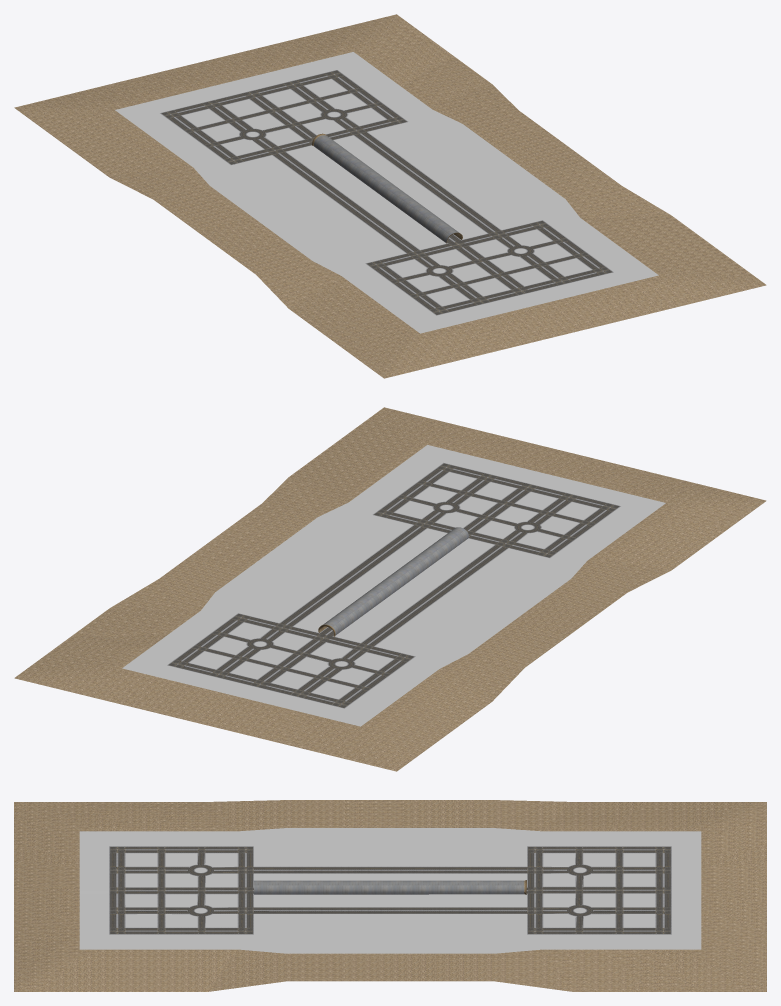
The model's file is real car.fbx.
The picture shows the model from 3 angles, top to bottom: view 1: azimuth 30°, elevation 25°; view 2: azimuth 150°, elevation 25°; view 3: azimuth 270°, elevation 25°; orthographic projection.
Parts seen in each view (by area): view 1: of_road, side_garsss, road, footh_pht1, grass, tunnel_2; view 2: of_road, side_garsss, road, footh_pht1, grass, tunnel_2; view 3: of_road, side_garsss, road, footh_pht1, grass, tunnel_2, g6, g14, g7, g13, g8, g12 (+18 smaller).
Boxes of the visible parts, x1,y1,x2,y2 form: of_road: (14, 14, 766, 378); side_garsss: (115, 52, 658, 333); road: (161, 70, 612, 314); footh_pht1: (160, 70, 613, 315); grass: (286, 135, 486, 249); tunnel_2: (312, 133, 462, 243); of_road: (14, 407, 766, 771); side_garsss: (122, 445, 665, 726); road: (168, 463, 619, 707); footh_pht1: (167, 462, 620, 708); grass: (294, 528, 494, 642); tunnel_2: (318, 527, 468, 636); of_road: (14, 800, 766, 991); side_garsss: (79, 828, 701, 953); road: (110, 847, 670, 933); footh_pht1: (109, 846, 671, 934); grass: (254, 873, 526, 907); tunnel_2: (253, 880, 526, 894); g6: (125, 873, 157, 887); g14: (623, 893, 655, 907); g7: (165, 873, 197, 887); g13: (583, 893, 615, 907); g8: (205, 873, 237, 887); g12: (543, 893, 575, 907).
Size of the model in its own units: 161110 by 5726 by 269856.
